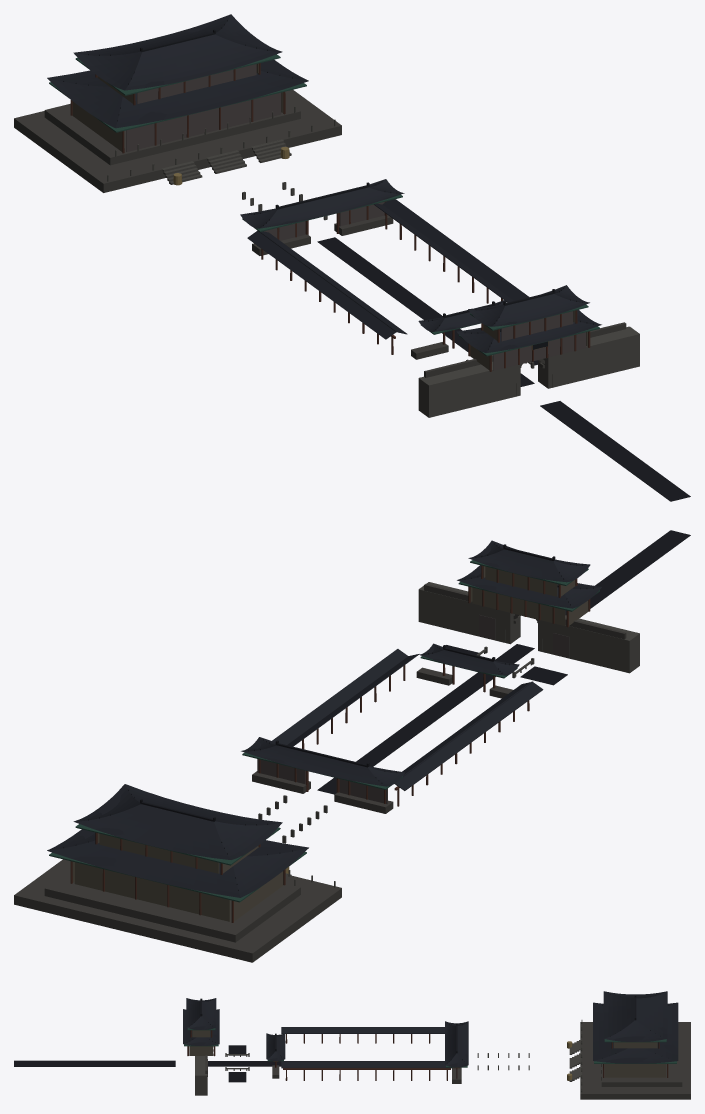
Rendered from palace.glb.
3 renders of one model, top to bottom at view 1: azimuth 30°, elevation 25°; view 2: azimuth 150°, elevation 25°; view 3: azimuth 270°, elevation 25°, orthographic. The views are drawn at different scales.
Parts seen in each view (by area): view 1: jj_woldae1, jj_r2, jj_r1, jj_woldae2, jj_body_wallS, gw_baseL, gw_baseR, nj_roof, eodo_plaza, hg_L_roofA, eodo_axis, gw_r2 (+10 smaller); view 2: jj_r2, jj_woldae1, jj_r1, jj_woldae2, jj_body_wallN, eodo_axis, nj_roof, gw_baseL, hg_L_roofA, gw_baseR, gw_r2, hg_R_roofB (+11 smaller); view 3: jj_r2, jj_woldae1, jj_r1, hg_R_roofA, jj_woldae2, hg_L_roofB, eodo_plaza, nj_roof, gw_r2, jj_body_wallE, gw_r1, eodo_axis (+6 smaller).
Boxes of the visible parts, x1,y1,x2,y2 form: jj_woldae1: (14,90,341,192); jj_r2: (73,14,282,90); jj_r1: (47,60,308,128); jj_woldae2: (44,100,300,165); jj_body_wallS: (126,92,281,152); gw_baseL: (418,365,515,417); gw_baseR: (552,326,639,387); nj_roof: (240,179,404,228); eodo_plaza: (540,401,690,501); hg_L_roofA: (247,231,396,339); eodo_axis: (317,237,534,386); gw_r2: (468,285,589,326); jj_r2: (73,784,282,859); jj_woldae1: (14,859,341,962); jj_r1: (47,829,308,897); jj_woldae2: (44,870,300,942); jj_body_wallN: (74,862,230,921); eodo_axis: (317,644,534,794); nj_roof: (241,737,404,786); gw_baseL: (542,619,639,673); hg_L_roofA: (394,681,543,790); gw_baseR: (418,582,505,642); gw_r2: (468,540,590,582); hg_R_roofB: (272,649,408,744); jj_r2: (603,991,667,1041); jj_woldae1: (580,1022,690,1099); jj_r1: (593,1002,678,1063); hg_R_roofA: (281,1061,452,1068); jj_woldae2: (601,1024,682,1086); hg_L_roofB: (281,1027,444,1033); eodo_plaza: (14,1060,175,1066); nj_roof: (445,1021,468,1067); gw_r2: (186,998,216,1029); jj_body_wallE: (605,1064,666,1077); gw_r1: (183,1009,219,1045); eodo_axis: (208,1061,444,1066).
Bounding box in the file's own units: 40 × 14.88 × 159.
